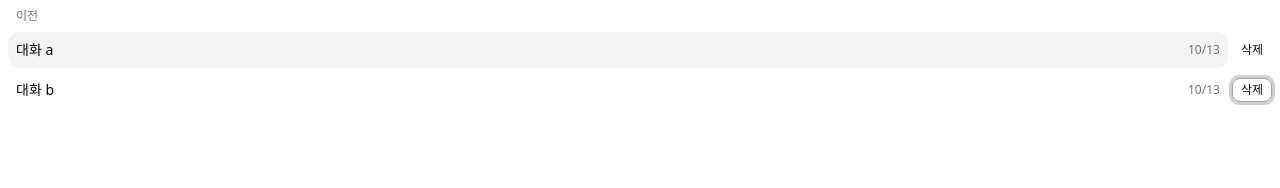
Test case: real keyboard-focusable buttons show the exact inline notice and cancel without DELETE
Expected: the text "대화를 삭제할까요? 원문은 다음 정리 때 제거되고, 감사 기록과 이미 발송된 효과는 남는다." is not shown
Click the button "삭제" in the row of "대화 a".
click(1252, 50)  # box x1=1232 y1=38 x2=1272 y2=62
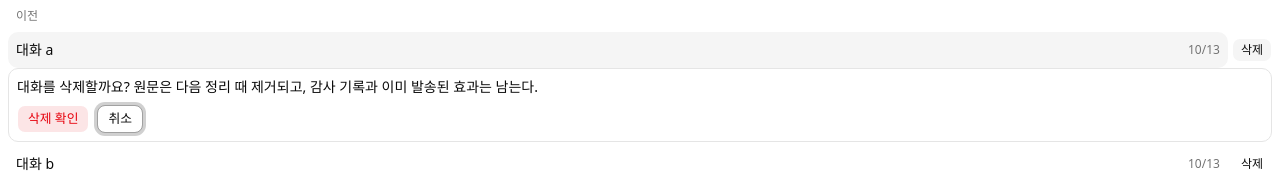
Result: the text "대화를 삭제할까요? 원문은 다음 정리 때 제거되고, 감사 기록과 이미 발송된 효과는 남는다." is shown at x1=17 y1=77 x2=538 y2=96
Click the button "취소".
click(120, 119)  # box x1=97 y1=105 x2=143 y2=133
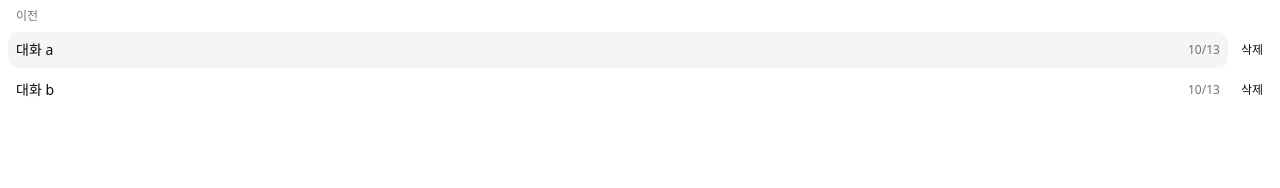
Result: the text "대화를 삭제할까요? 원문은 다음 정리 때 제거되고, 감사 기록과 이미 발송된 효과는 남는다." is gone
